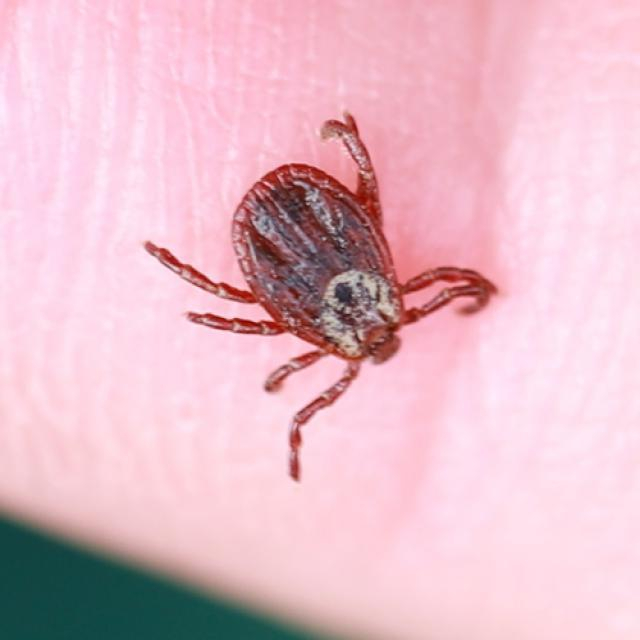Dermacentor Reticulatus-F: (145, 115, 495, 478)
